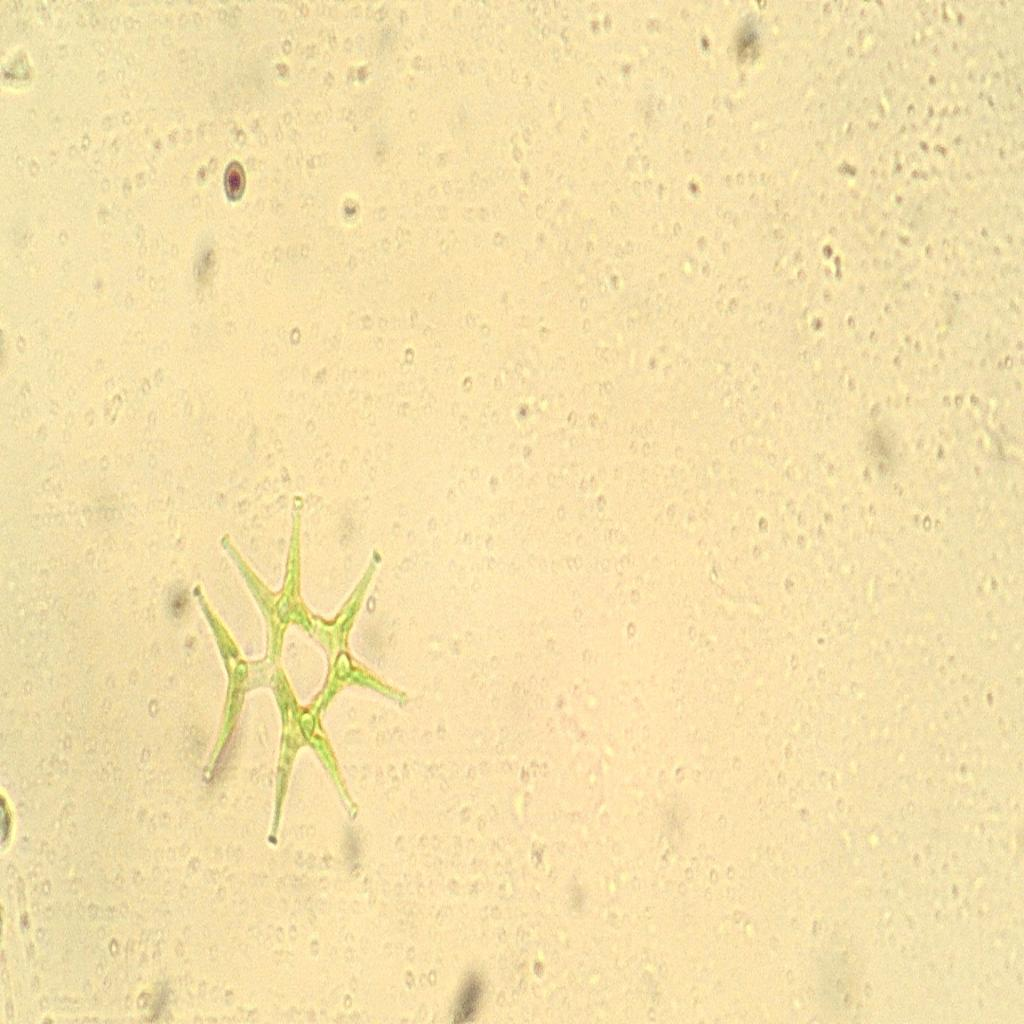Pediastrum_CT: (175, 478, 429, 864)
